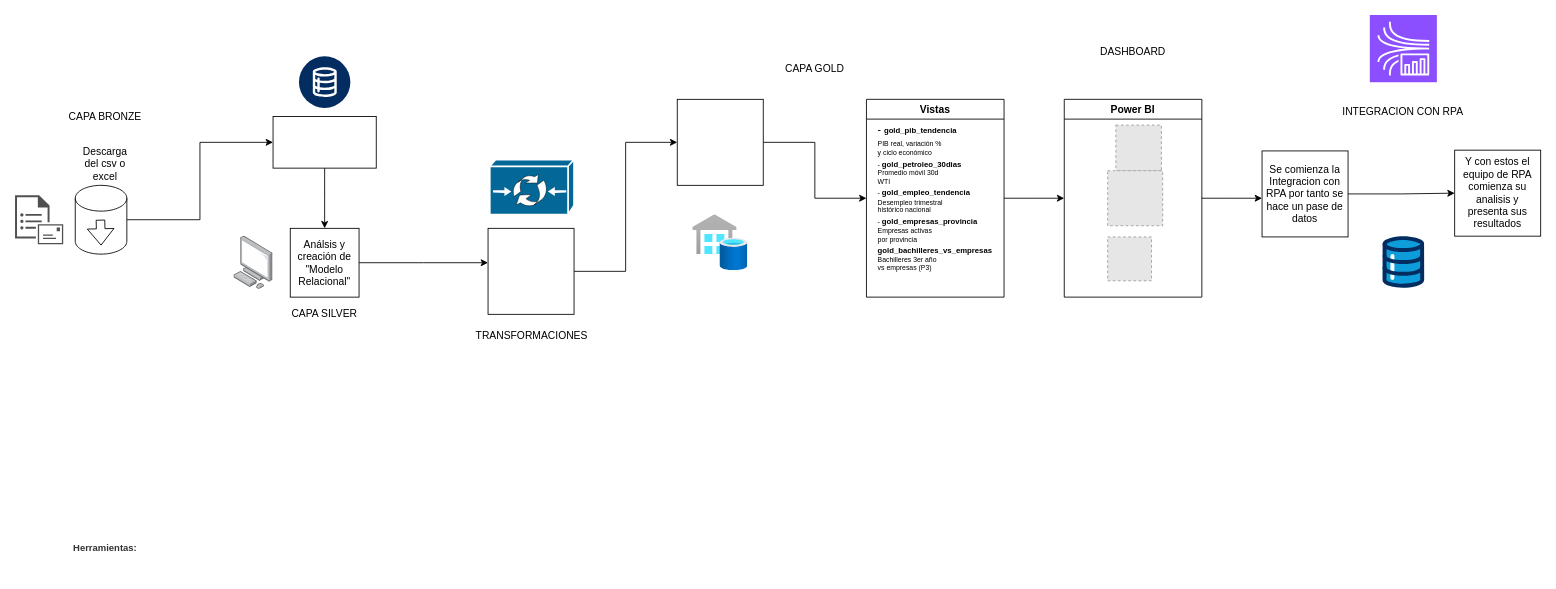
Image size: 1556x589. Some labels were removed from this diagram. Grey dashed boxes stand in for pictures. Each missing label, with the centre of its shape:
Aplicacación de las "Transformaciones": (x=530, y=270)
Creacion de Vistas Solicitadas: (x=719, y=141)
Recepción de Datos: (x=324, y=142)
